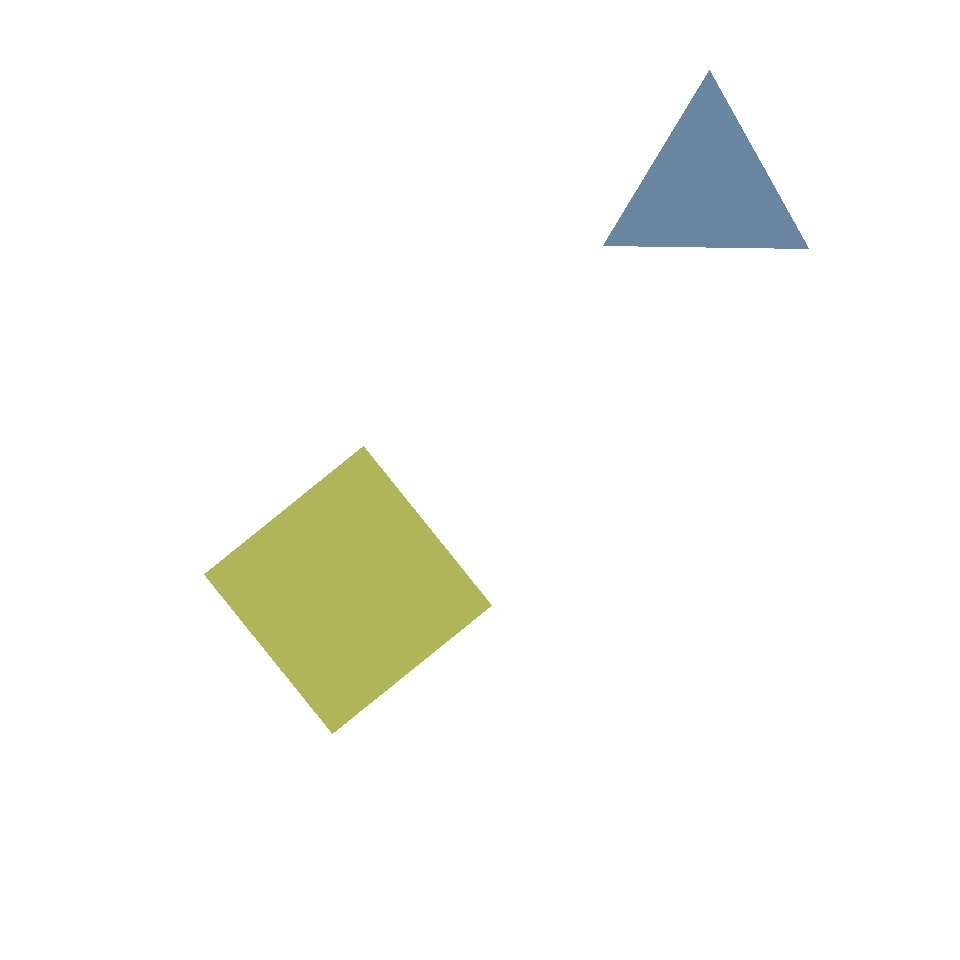circle: (174, 298, 458, 554), (90, 232, 298, 454), (604, 99, 810, 277)
square: (204, 447, 492, 734), (684, 88, 924, 328)
triangle: (210, 541, 420, 752)
